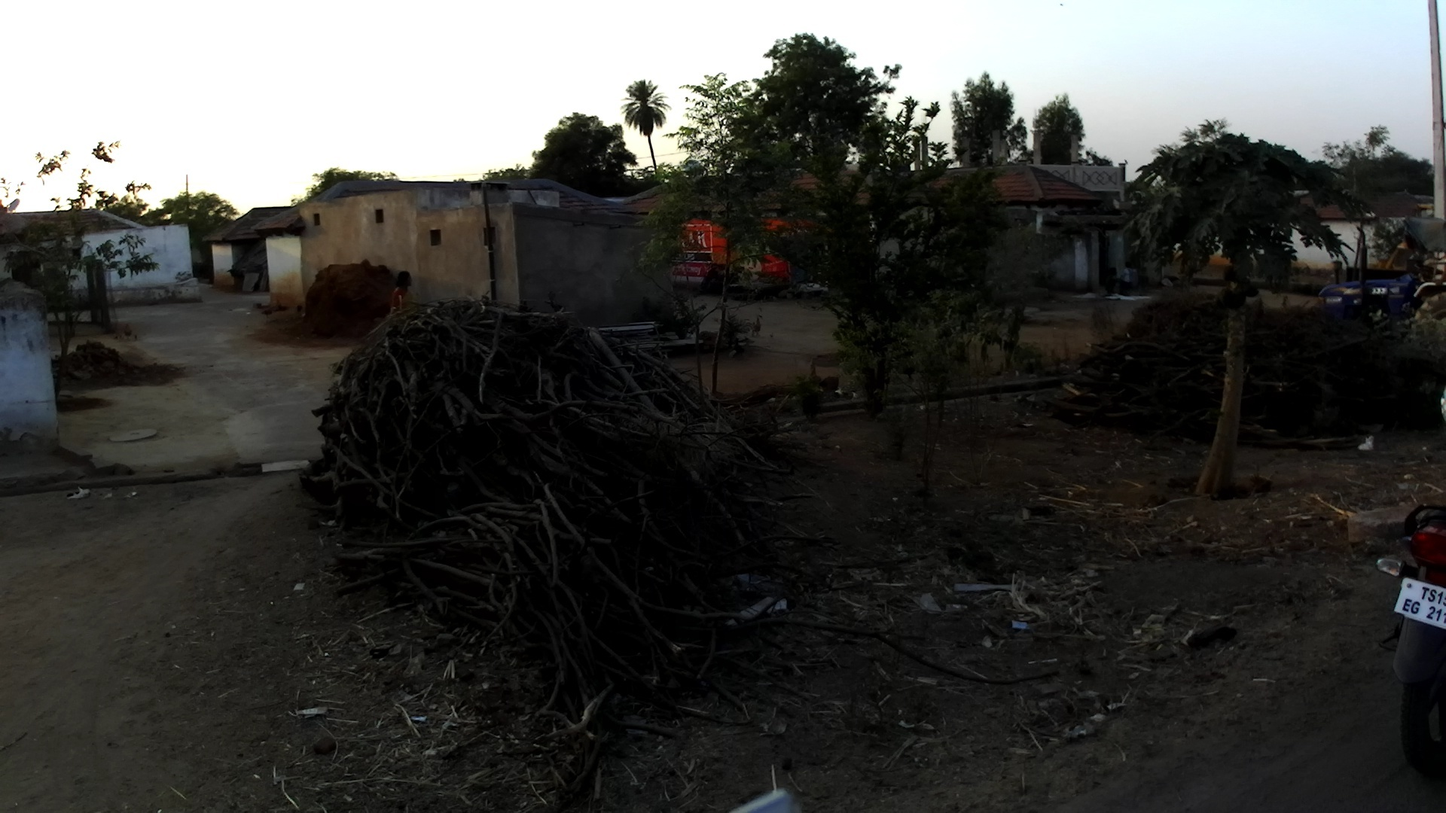motorcycle: (1375, 505, 1446, 769)
person: (389, 271, 414, 316)
vehicle fallback: (1319, 215, 1446, 340)
